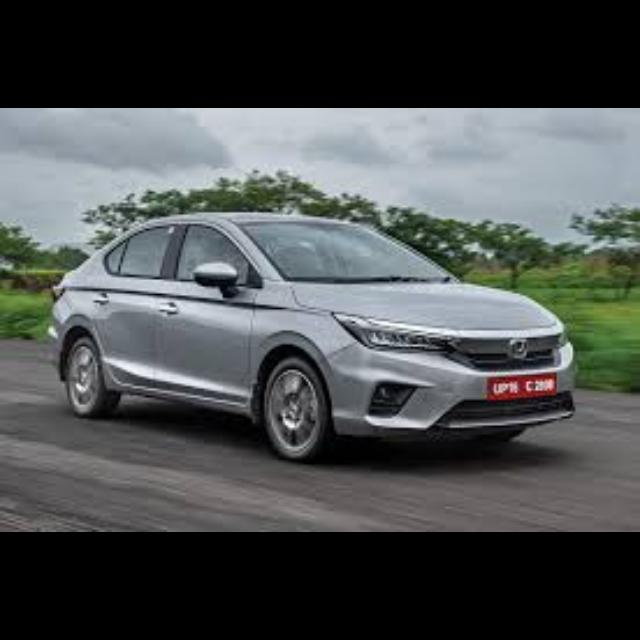vehicles: (40, 208, 580, 470)
